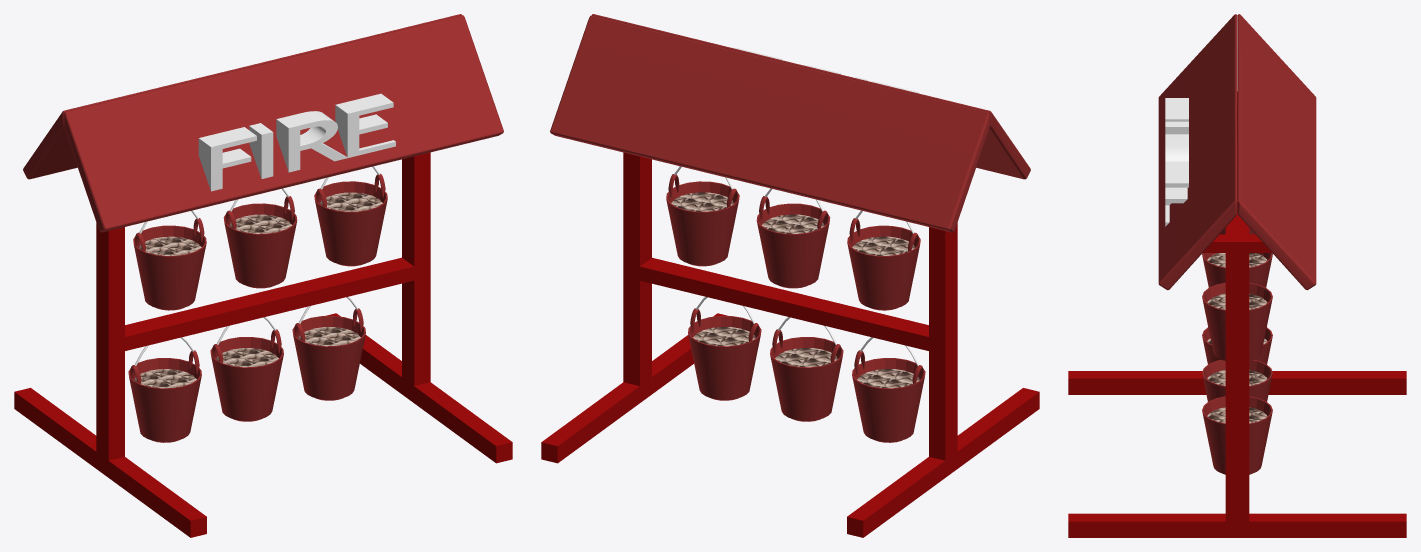
File: fire bucket.fbx
3 renders of one model, left to right at view 1: azimuth 30°, elevation 25°; view 2: azimuth 150°, elevation 25°; view 3: azimuth 270°, elevation 25°, orthographic. The views are drawn at different scales.
Parts seen in each view (by area): view 1: pCube3, pCube2, typeMesh1, pCylinder9, pCylinder8, pCylinder12, pCylinder11, pCylinder10, pCylinder1, pCylinder2, pCylinder3, pCylinder4 (+3 smaller); view 2: pCube3, pCube2, pCylinder9, pCylinder8, pCylinder12, pCylinder11, pCylinder1, pCylinder10, pCylinder2, pCylinder3, pCylinder4, pCylinder5 (+2 smaller); view 3: pCube3, pCube2, typeMesh1, pCylinder9, pCylinder10, pCylinder1, pCylinder12, pCylinder11, pCylinder7, pCylinder2, pCylinder6, pCylinder3.
Part boxes in pixels (left/top/right/bottom): pCube3: left=23, top=14, right=503, bottom=232; pCube2: left=14, top=152, right=512, bottom=537; typeMesh1: left=198, top=93, right=395, bottom=191; pCylinder9: left=314, top=181, right=387, bottom=266; pCylinder8: left=133, top=225, right=206, bottom=310; pCylinder12: left=223, top=203, right=297, bottom=288; pCylinder11: left=128, top=358, right=201, bottom=442; pCylinder10: left=292, top=315, right=365, bottom=400; pCylinder1: left=210, top=337, right=283, bottom=421; pCylinder2: left=320, top=192, right=382, bottom=211; pCylinder3: left=229, top=214, right=292, bottom=233; pCylinder4: left=139, top=236, right=201, bottom=255; pCube3: left=550, top=14, right=1030, bottom=232; pCube2: left=541, top=152, right=1039, bottom=537; pCylinder9: left=666, top=181, right=739, bottom=266; pCylinder8: left=847, top=225, right=920, bottom=310; pCylinder12: left=756, top=203, right=830, bottom=288; pCylinder11: left=852, top=358, right=925, bottom=442; pCylinder1: left=770, top=337, right=843, bottom=421; pCylinder10: left=688, top=316, right=761, bottom=400; pCylinder2: left=671, top=192, right=733, bottom=211; pCylinder3: left=762, top=214, right=824, bottom=233; pCylinder4: left=852, top=236, right=915, bottom=255; pCylinder5: left=857, top=369, right=919, bottom=388; pCube3: left=1158, top=14, right=1316, bottom=290; pCube2: left=1068, top=91, right=1406, bottom=537; typeMesh1: left=1165, top=98, right=1188, bottom=226; pCylinder9: left=1202, top=282, right=1272, bottom=361; pCylinder10: left=1202, top=396, right=1272, bottom=474; pCylinder1: left=1202, top=359, right=1272, bottom=401; pCylinder12: left=1202, top=253, right=1272, bottom=287; pCylinder11: left=1202, top=327, right=1272, bottom=364; pCylinder7: left=1207, top=407, right=1267, bottom=423; pCylinder2: left=1207, top=293, right=1267, bottom=309; pCylinder6: left=1207, top=369, right=1266, bottom=385; pCylinder3: left=1207, top=253, right=1267, bottom=267.
Size of the model in its own units: 12.76 by 11.31 by 9.73.
Materials: 5 (1 with a texture image).
